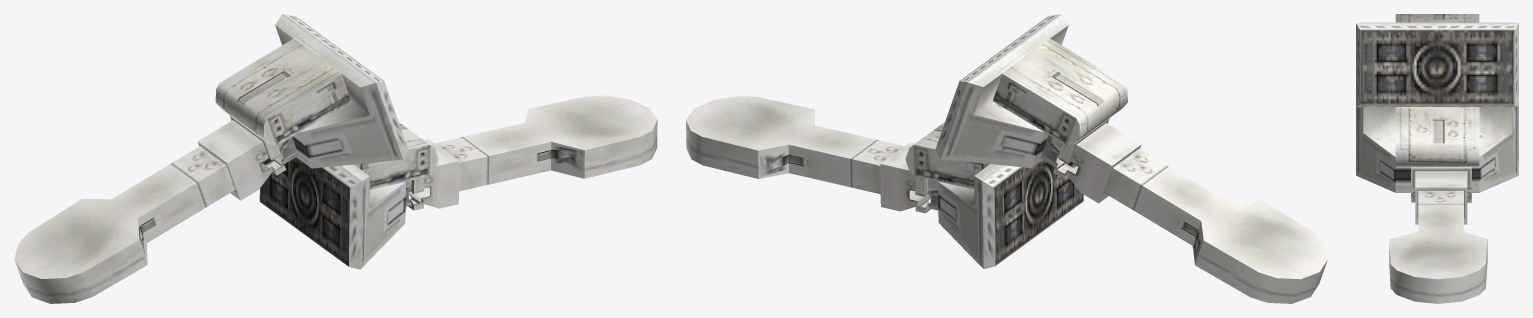
File: poi_r5_leg_l0.fbx
The picture shows the model from 3 angles, left to right: view 1: azimuth 30°, elevation 25°; view 2: azimuth 150°, elevation 25°; view 3: azimuth 270°, elevation 25°; orthographic projection. The views are drawn at different scales.
Parts seen in each view (by area): view 1: mesh_node; view 2: mesh_node; view 3: mesh_node.
Part boxes in pixels (bbox=[...]): mesh_node: bbox=[14, 14, 657, 303]; mesh_node: bbox=[686, 14, 1327, 303]; mesh_node: bbox=[1356, 14, 1518, 303].
Size of the model in its own units: 1.44 by 0.404 by 0.3743.
